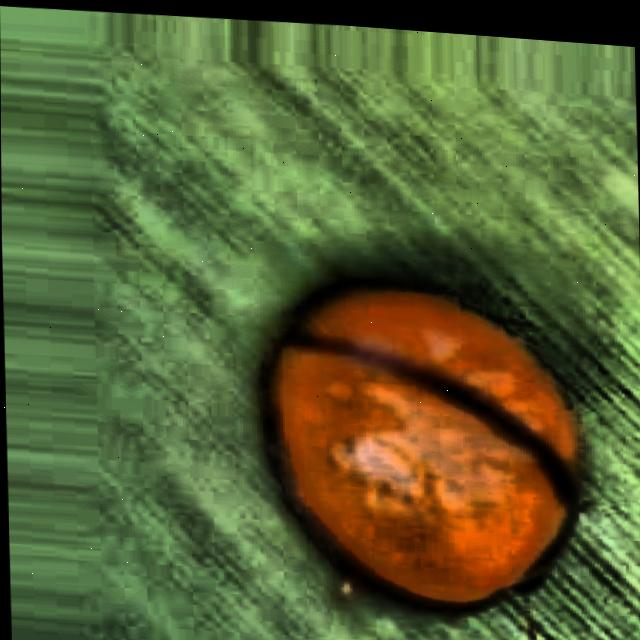Ladybug: (198, 193, 640, 640)
